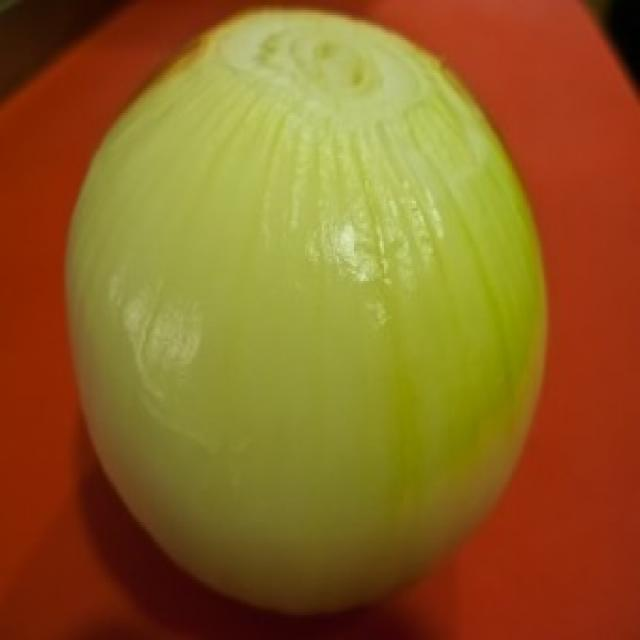onion: (78, 9, 560, 604)
